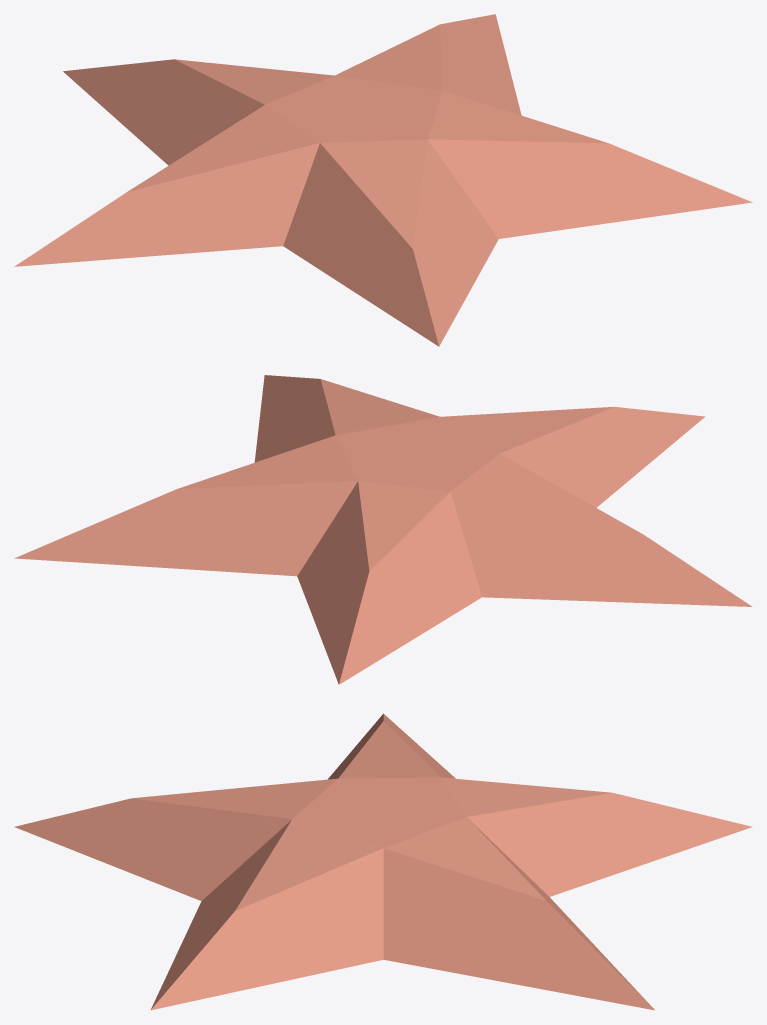
File: Beach_Prop_Starfish_2.glb
3 renders of one model, top to bottom at view 1: azimuth 30°, elevation 25°; view 2: azimuth 150°, elevation 25°; view 3: azimuth 270°, elevation 25°, orthographic. The views are drawn at different scales.
Visible parts, largest first — view 1: Beach_Prop_Starfish_2; view 2: Beach_Prop_Starfish_2; view 3: Beach_Prop_Starfish_2.
Part boxes in pixels (<box>): Beach_Prop_Starfish_2: <box>14,14,752,346</box>; Beach_Prop_Starfish_2: <box>14,375,752,684</box>; Beach_Prop_Starfish_2: <box>14,713,752,1010</box>.
Bounding box in the file's own units: 0.2261 × 0.025 × 0.2378.
